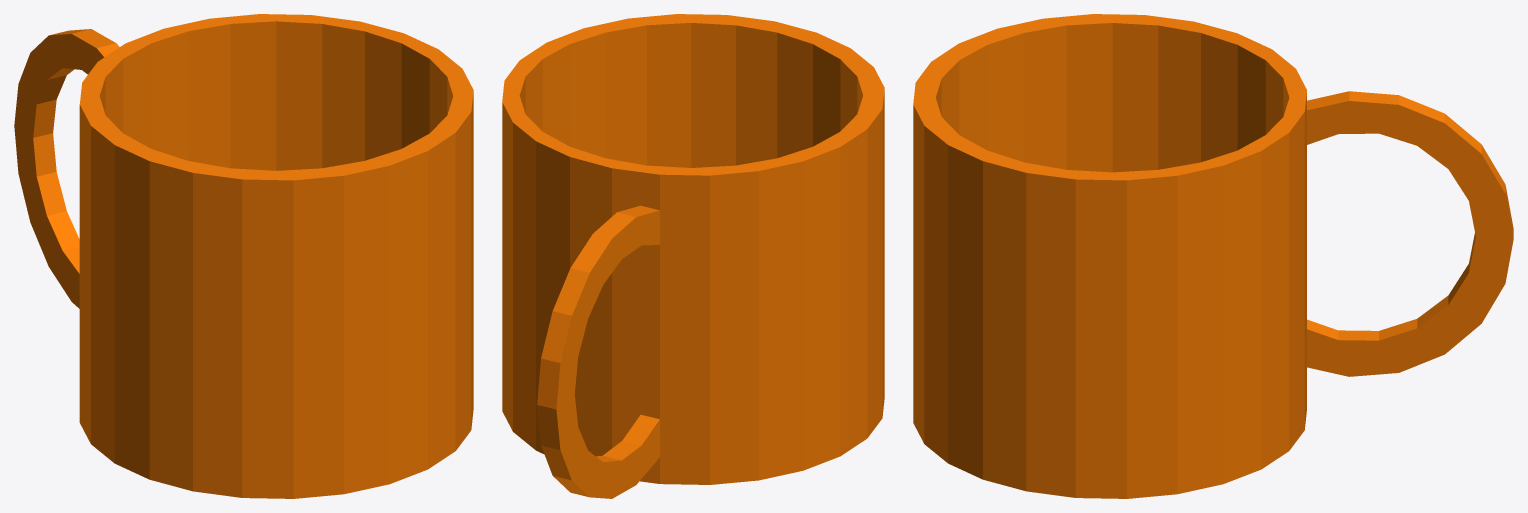
3 renders of one model, left to right at view 1: azimuth 30°, elevation 25°; view 2: azimuth 150°, elevation 25°; view 3: azimuth 270°, elevation 25°, orthographic. The views are drawn at different scales.
Bounding box in the file's own units: 0.4926 × 0.4396 × 0.751.
